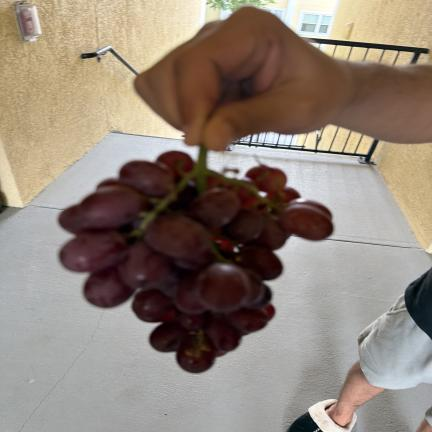grape_cluster: (59, 149, 333, 373)
